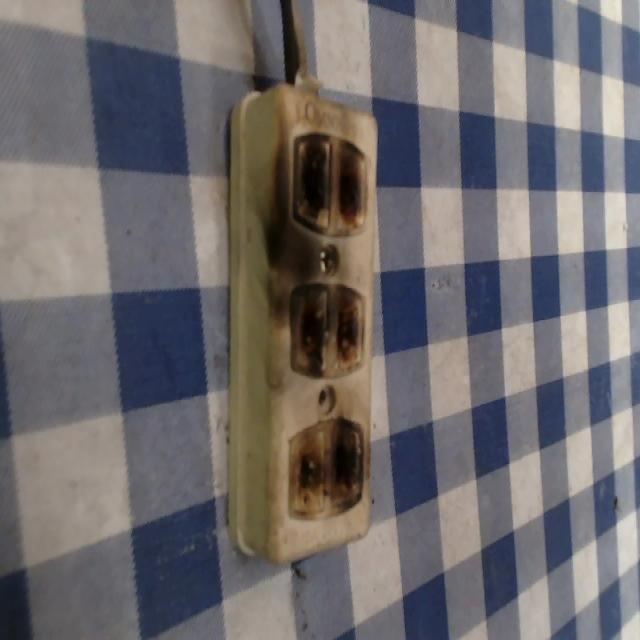-: (284, 417, 368, 520), (290, 129, 369, 235), (286, 276, 367, 377)
